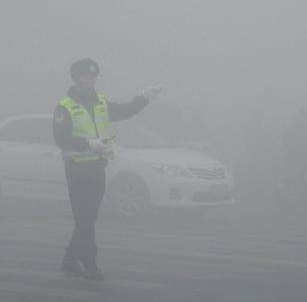person: (51, 58, 159, 281)
